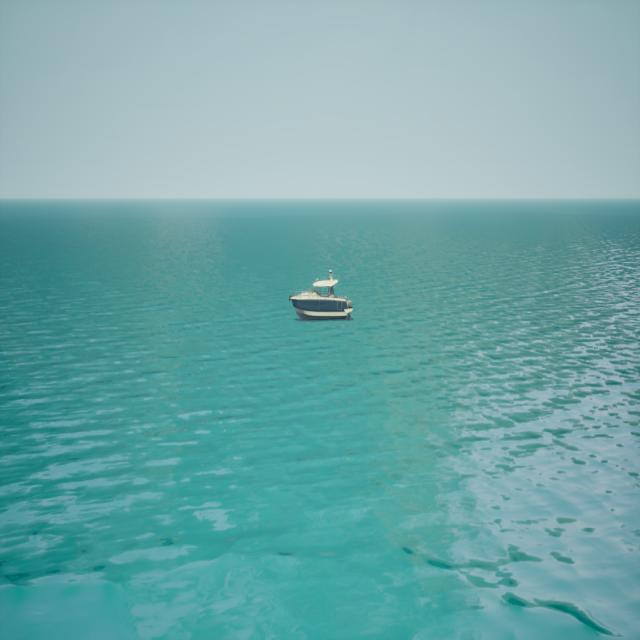ship: (288, 269, 354, 319)
